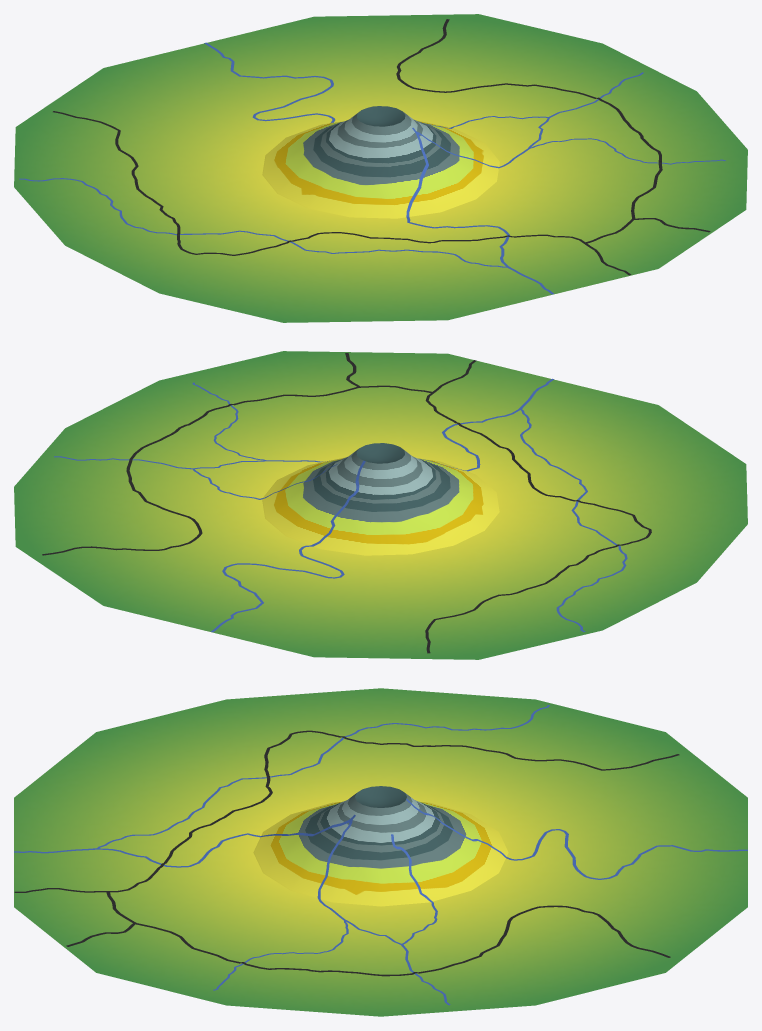
The model's file is 05_cirque.glb.
3 views of the same model, one above another, from view 1: azimuth 30°, elevation 25°; view 2: azimuth 150°, elevation 25°; view 3: azimuth 270°, elevation 25° (orthographic). The views are drawn at different scales.
Parts seen in each view (by area): view 1: 05_sol, 05_volcan, 05_riviere, 05_route, 05_volcan.top; view 2: 05_sol, 05_volcan, 05_riviere, 05_route, 05_volcan.top; view 3: 05_sol, 05_volcan, 05_riviere, 05_route, 05_volcan.top.
Boxes of the visible parts, x1,y1,x2,y2 form: 05_sol: (14, 14, 747, 322); 05_volcan: (262, 111, 499, 218); 05_riviere: (19, 42, 725, 294); 05_route: (53, 19, 710, 275); 05_volcan.top: (357, 106, 405, 126); 05_sol: (14, 351, 747, 659); 05_volcan: (262, 448, 499, 555); 05_riviere: (54, 378, 627, 632); 05_route: (42, 353, 651, 653); 05_volcan.top: (356, 443, 404, 463); 05_sol: (14, 688, 747, 1016); 05_volcan: (253, 793, 508, 906); 05_riviere: (14, 705, 747, 1005); 05_route: (14, 730, 679, 976); 05_volcan.top: (355, 786, 406, 807).
Size of what is drawn, in the model's own units: 180 by 15.29 by 170.
4 materials, 4 textured.
